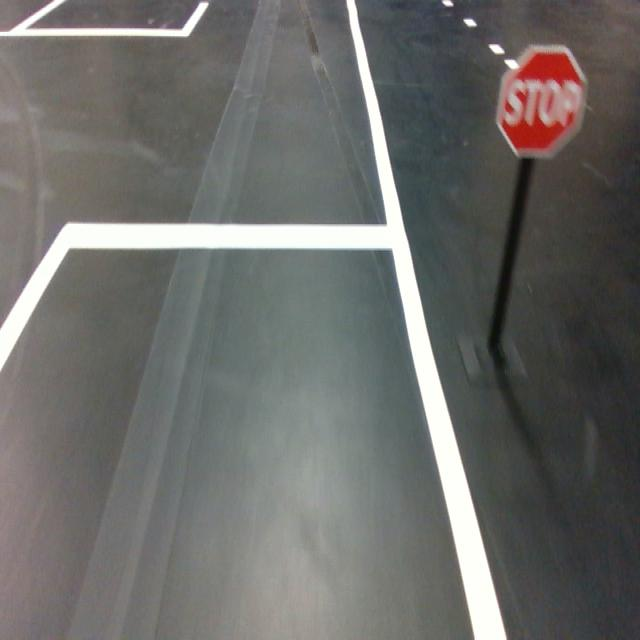stop-sign: (494, 44, 589, 160)
